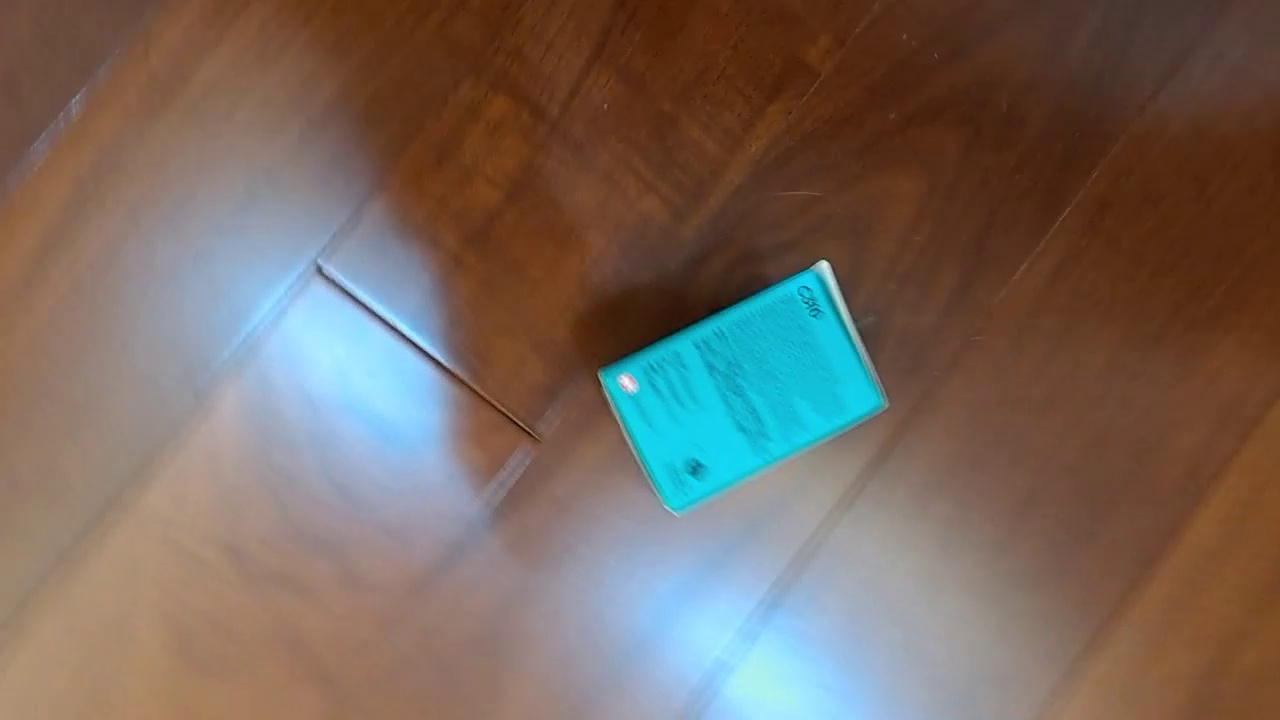webcam: (594, 258, 892, 520)
